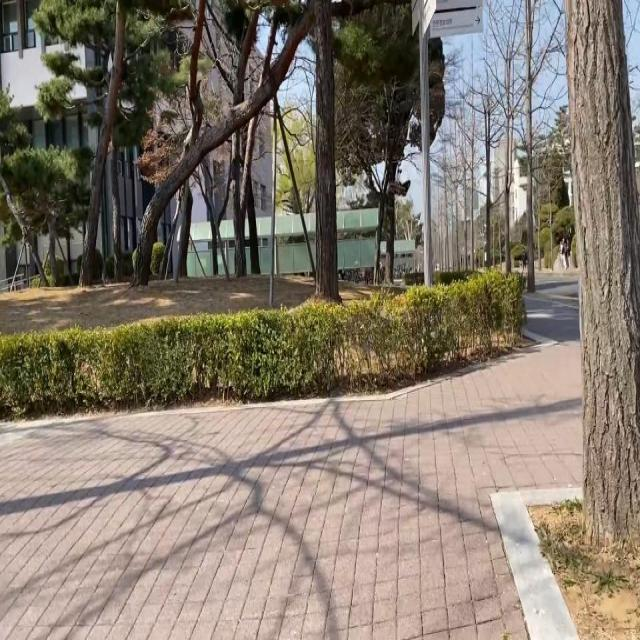sidewalk: (0, 341, 583, 639)
